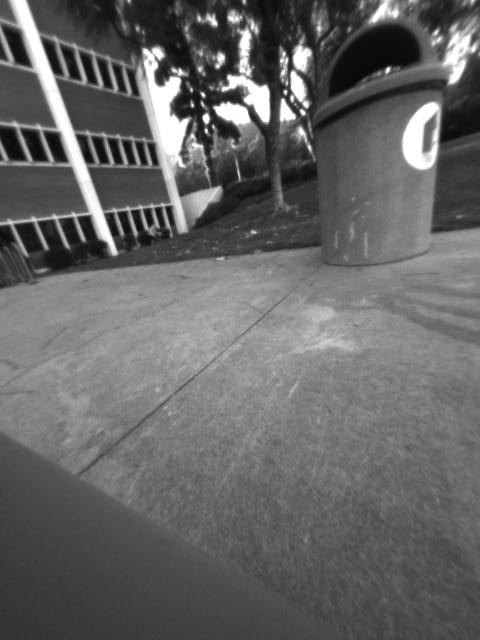trashcan: (307, 14, 450, 270)
